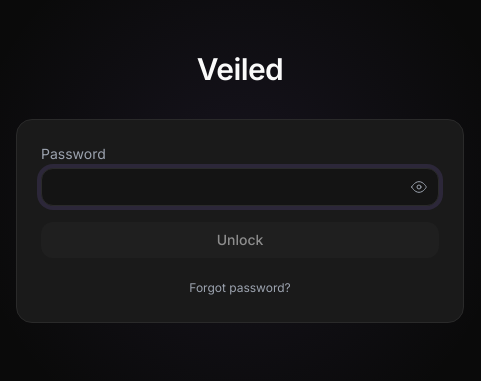
Test case: WalletUnlock › shows error on failed unlock
Type "wrong" into the password field.
click(240, 187); type("wrong")  # box [41, 168, 439, 206]
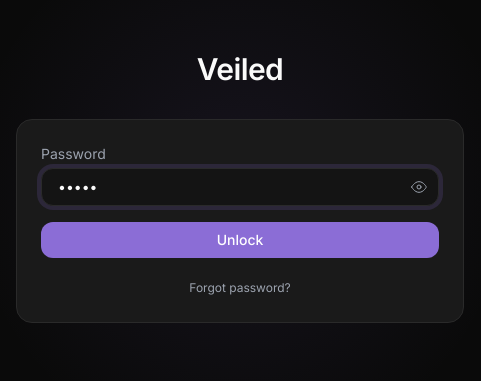
Click the button "Unlock".
click(240, 240)  # box [41, 222, 439, 258]
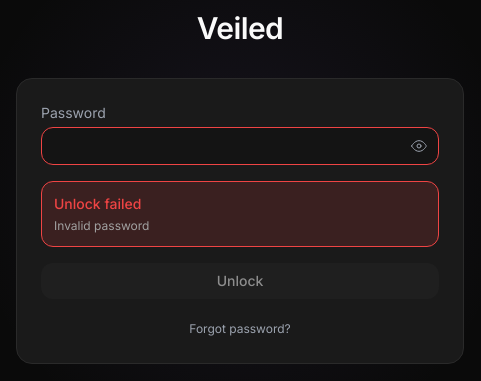
Expected: the message "Unlock failed Invalid password" is shown, [41, 181, 439, 247]
